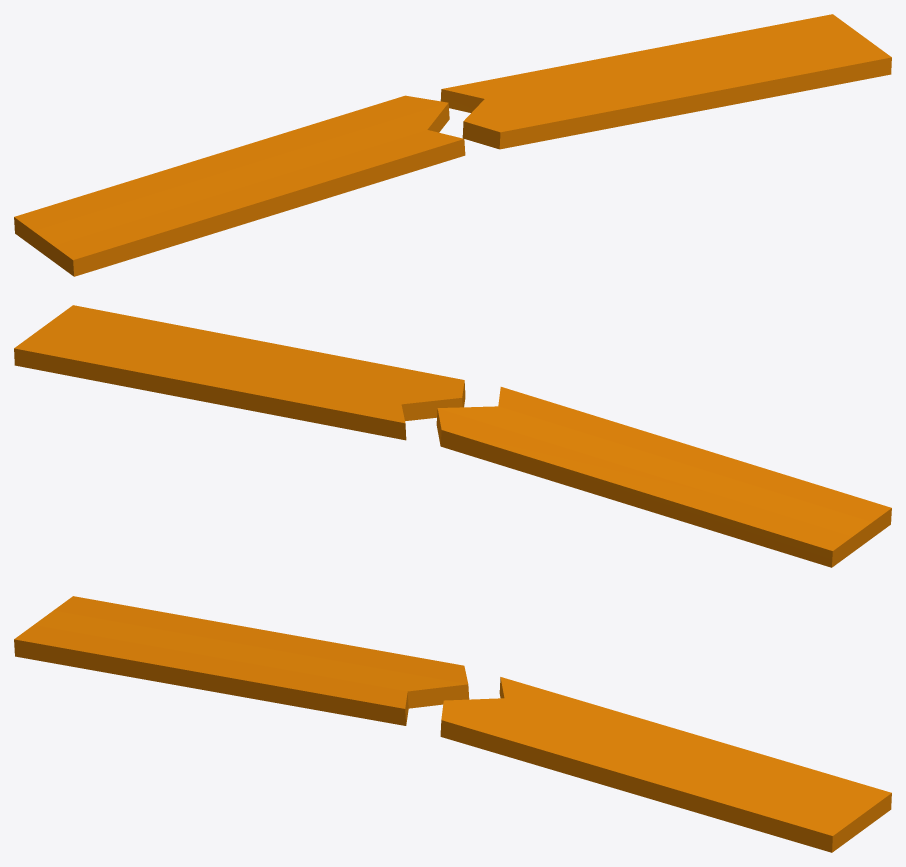
File: Broken_plank_6.fbx
3 renders of one model, top to bottom at view 1: azimuth 30°, elevation 25°; view 2: azimuth 150°, elevation 25°; view 3: azimuth 330°, elevation 25°, orthographic.
Parts seen in each view (by area): view 1: Cube.058, Cube.053; view 2: Cube.058, Cube.053; view 3: Cube.053, Cube.058.
Boxes of the visible parts, left/top/right/bottom form: Cube.058: left=14, top=95, right=465, bottom=276; Cube.053: left=440, top=14, right=891, bottom=149; Cube.058: left=436, top=387, right=891, bottom=567; Cube.053: left=14, top=305, right=465, bottom=440; Cube.053: left=440, top=677, right=891, bottom=852; Cube.058: left=14, top=596, right=469, bottom=725.
Bounding box in the file's own units: 104 × 5.4 × 13.07.
